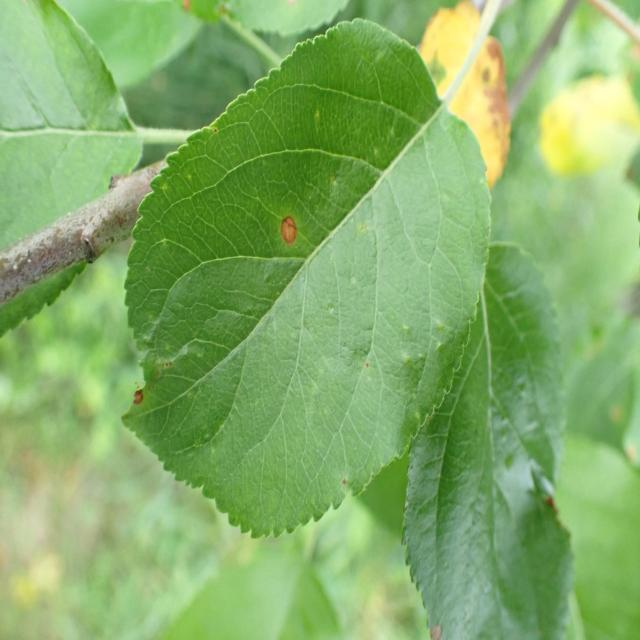Black Rot: (260, 193, 319, 271), (127, 367, 164, 418)
